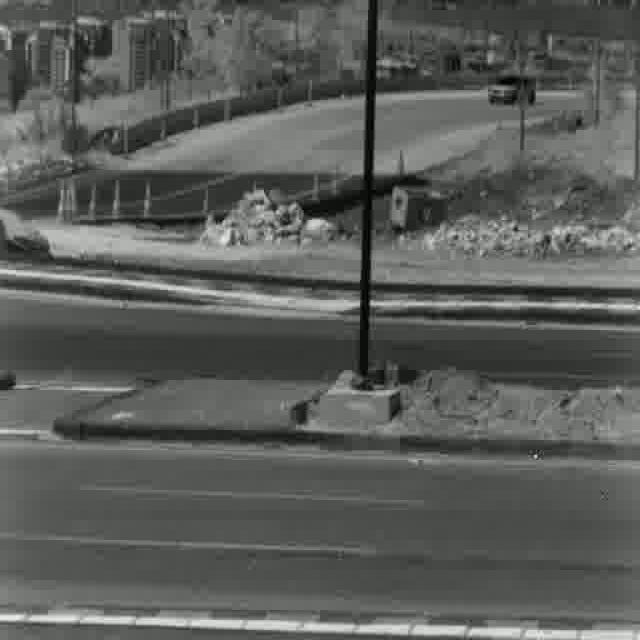Car: (487, 72, 538, 106)
